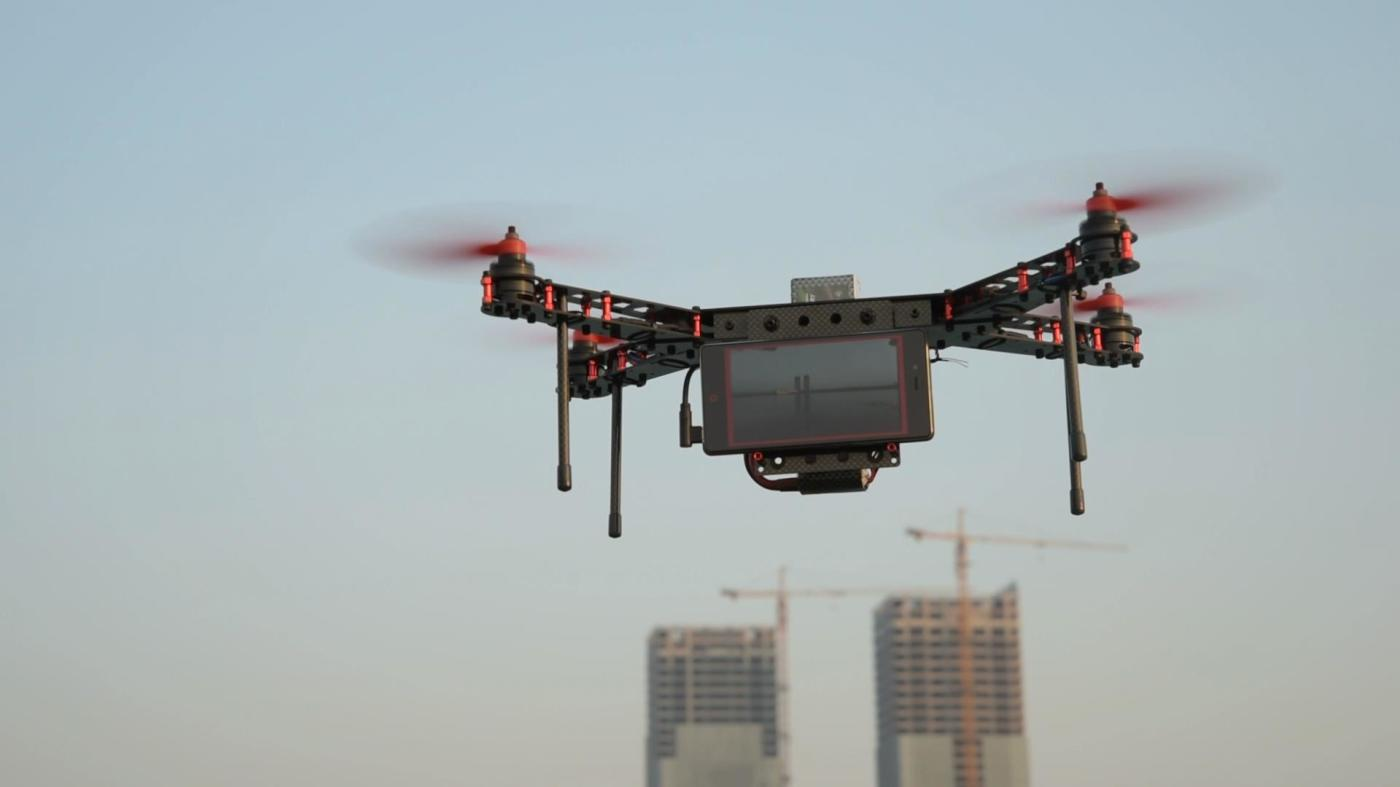drone: (350, 136, 1294, 542)
